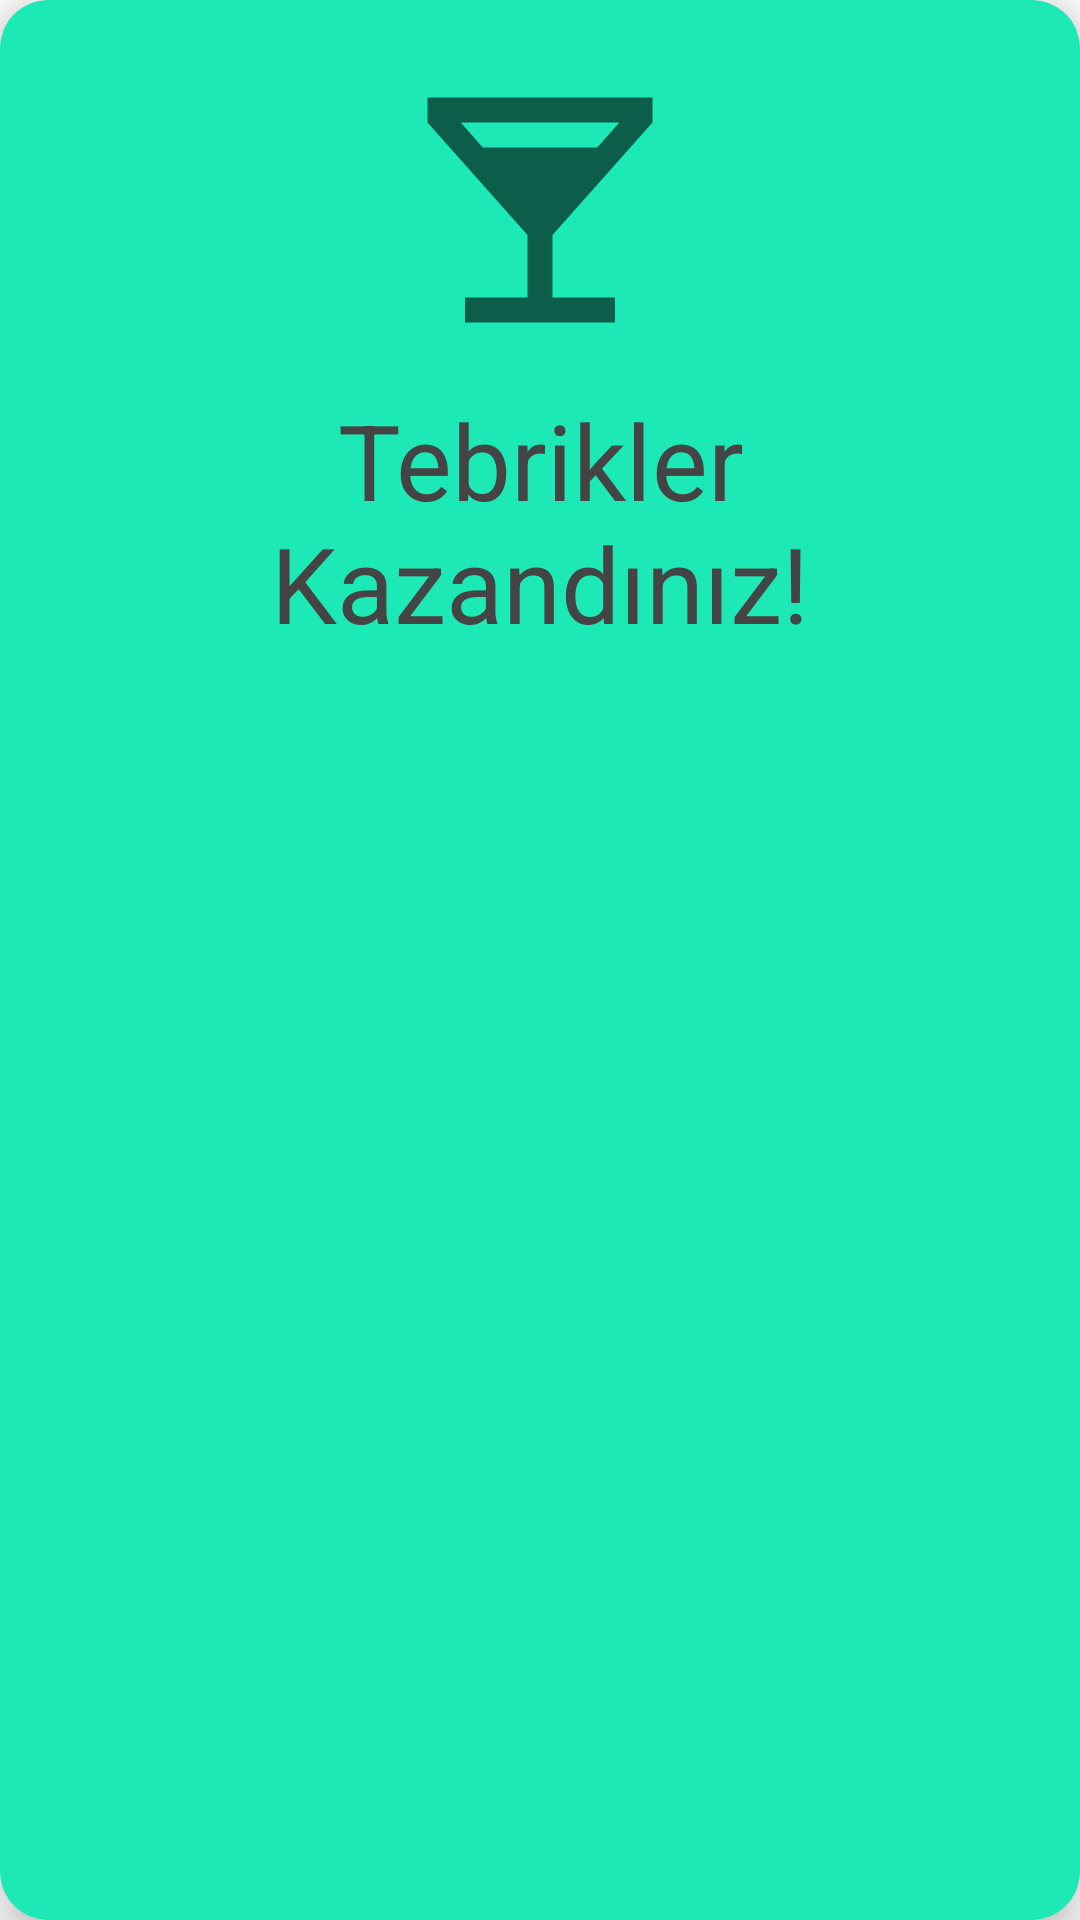

Named icons in this screenshot (1080*1920) and their bounding boxes, BBox(x1, y1, x2, y2):
local bar: BBox(427, 97, 653, 323)
